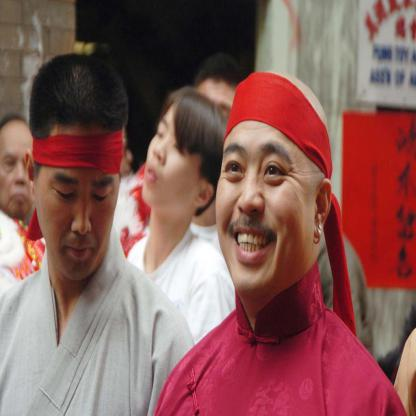face: (216, 132, 315, 293), (39, 137, 120, 277), (140, 109, 195, 215), (3, 123, 39, 220)
